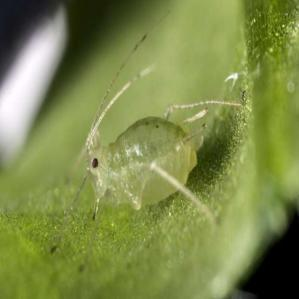Green peach aphid: (37, 39, 243, 249)
